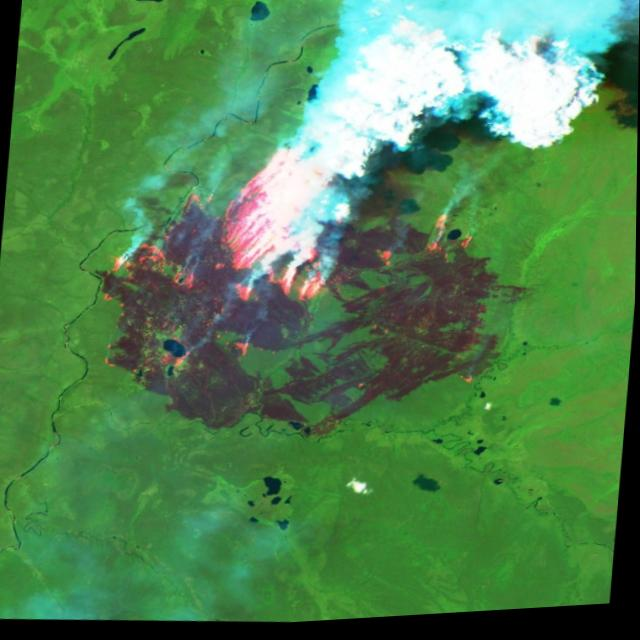fire: (74, 117, 506, 406)
